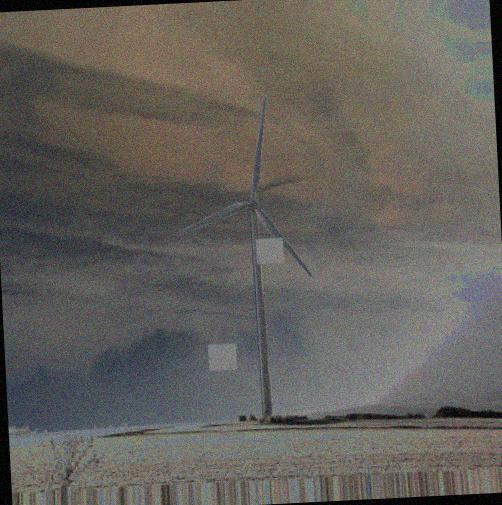wind turbine: (177, 95, 313, 426)
